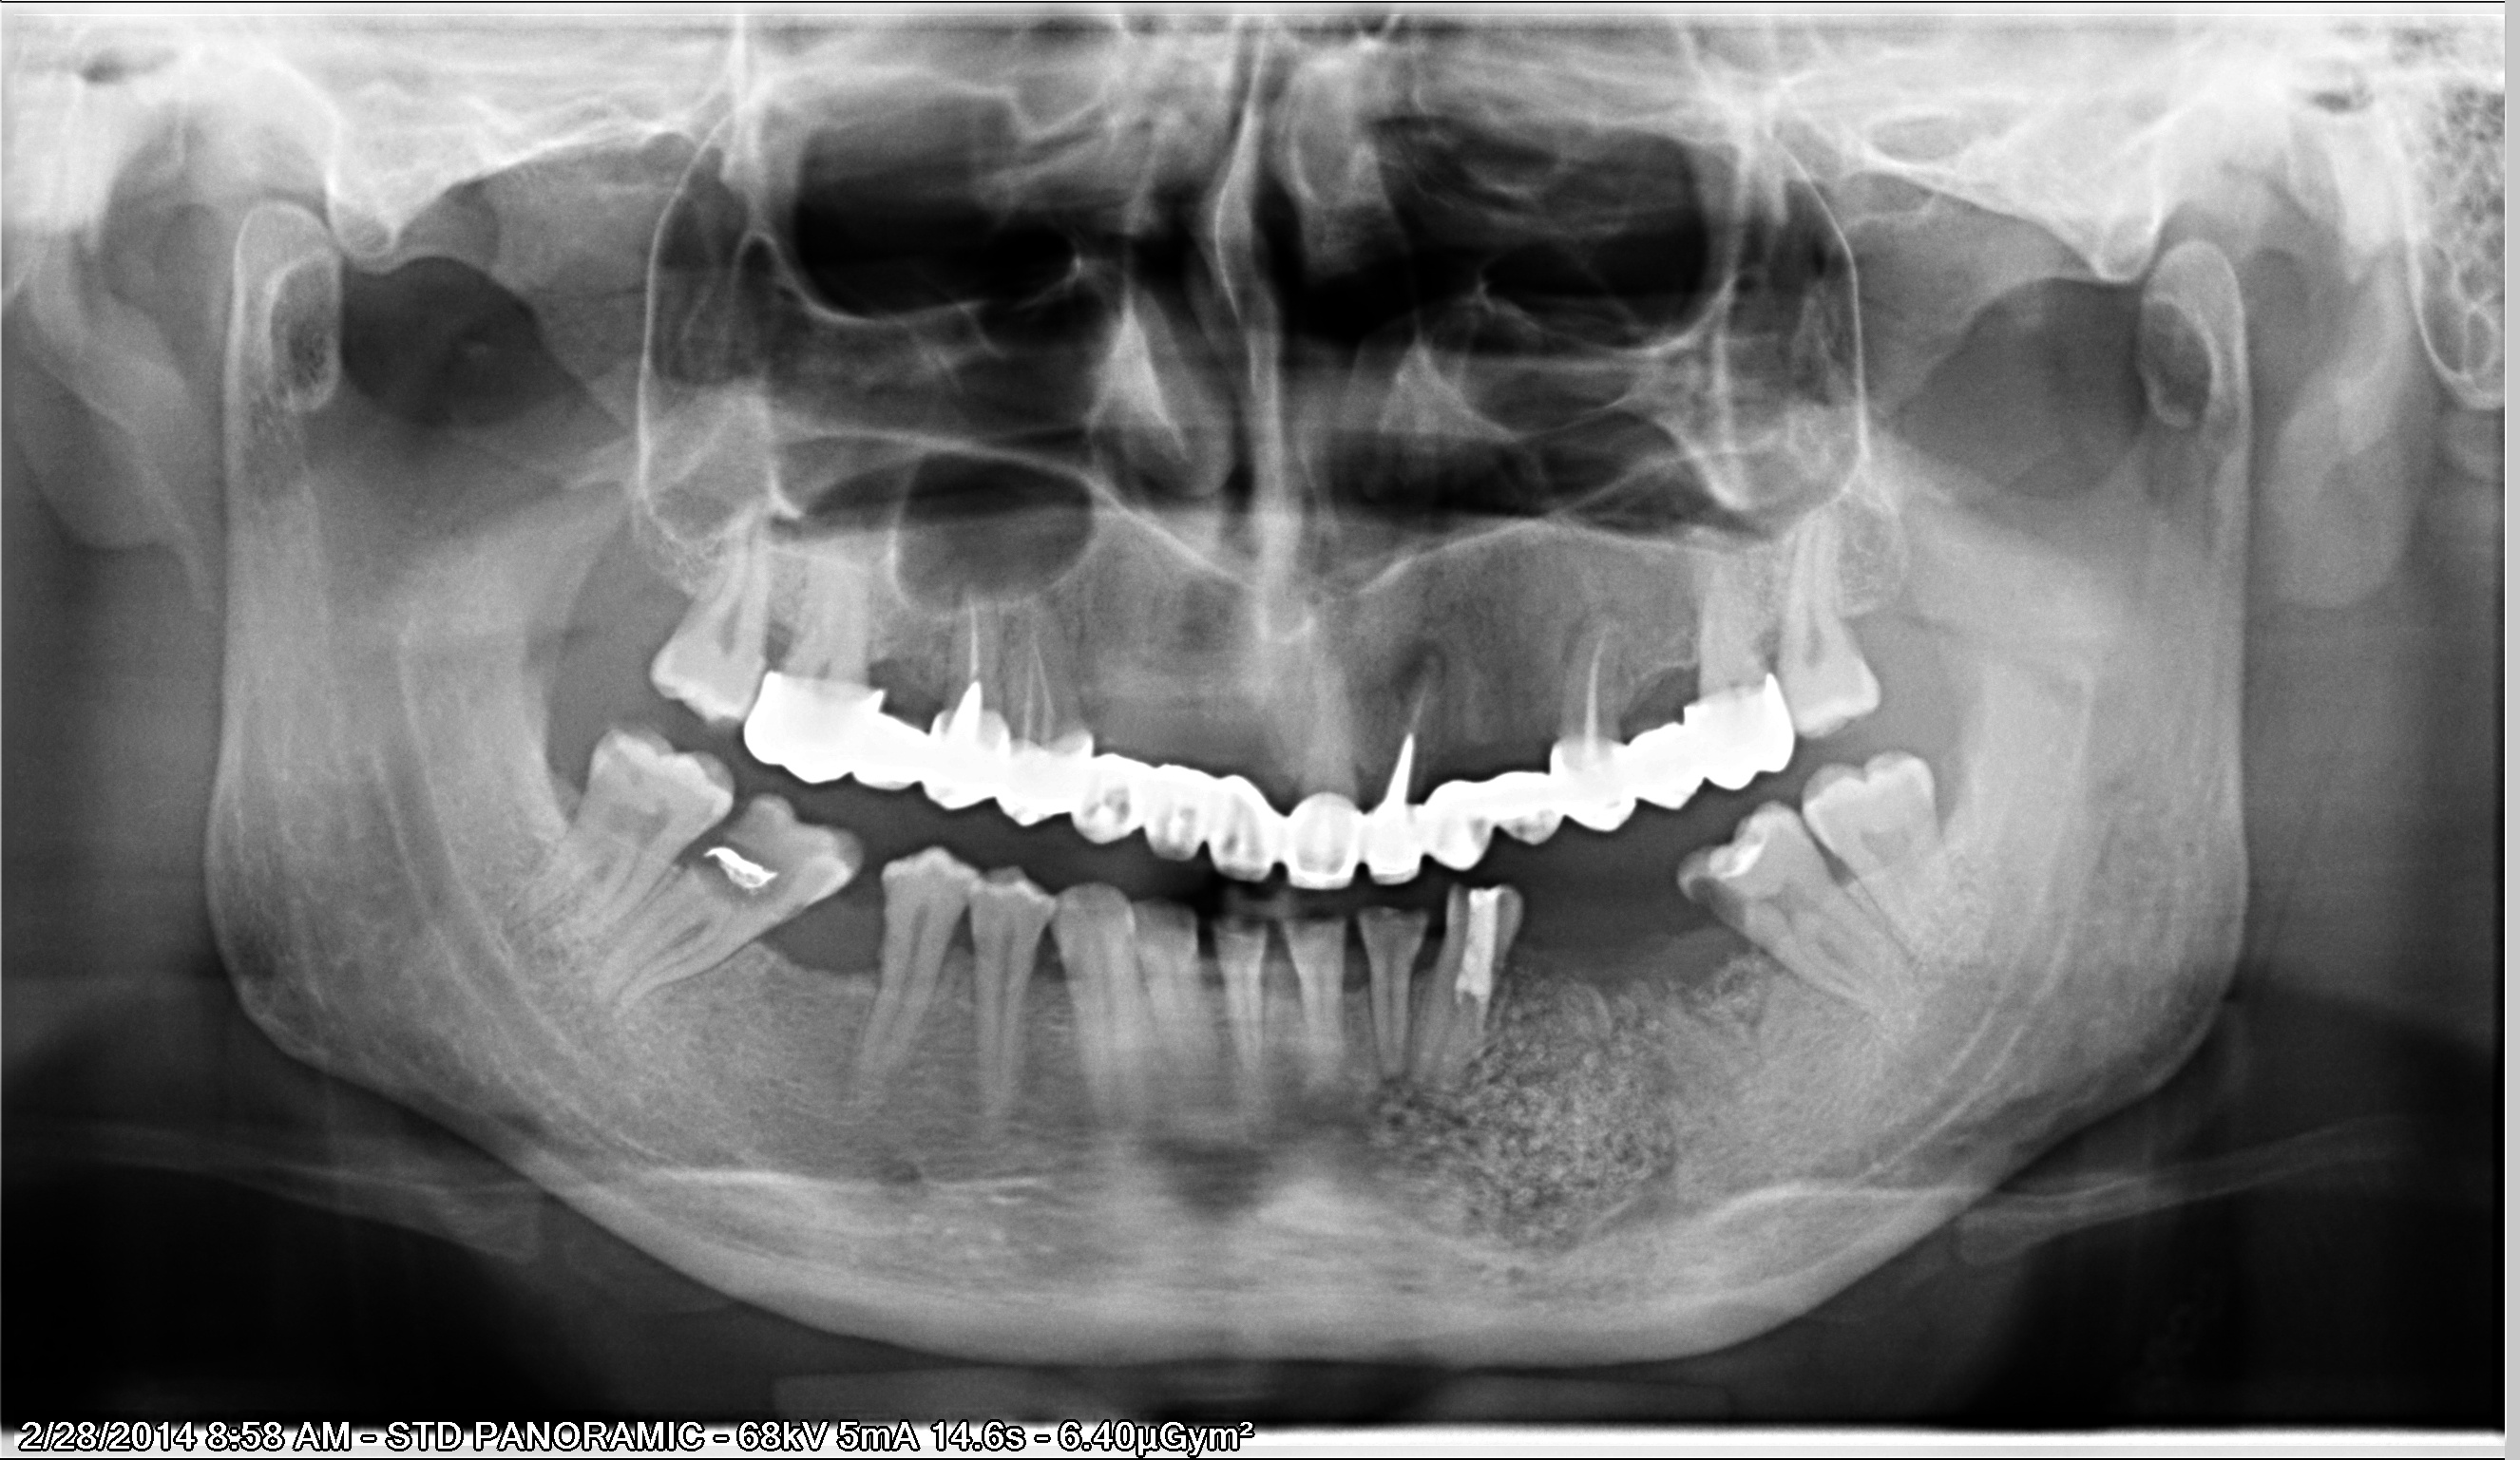API: (1376, 608, 1482, 713), (1548, 589, 1646, 659)
CAR: (678, 806, 845, 932), (1656, 867, 1780, 958), (572, 728, 681, 801)
END: (998, 577, 1084, 733), (1555, 610, 1637, 740), (1378, 650, 1460, 754), (937, 570, 1003, 697)
OBT: (1436, 879, 1524, 1017), (1691, 800, 1785, 899), (673, 826, 794, 899)
PRR: (723, 654, 1804, 902)
